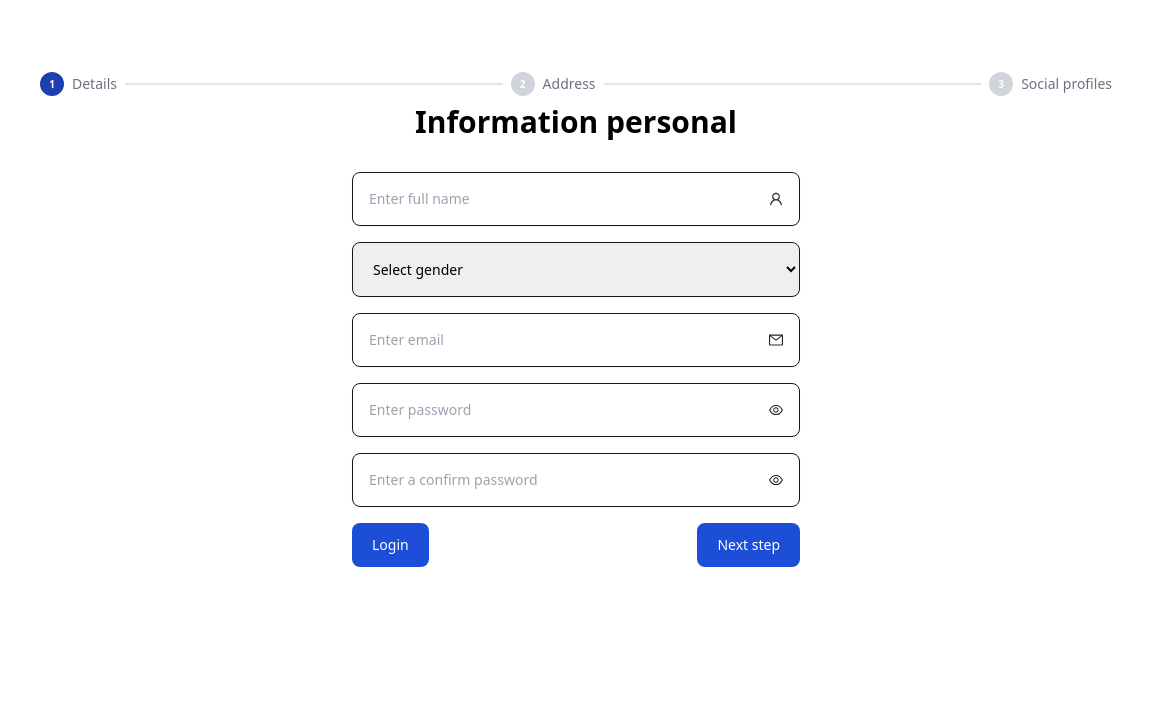
should show error message when email is not valid
Type "2" into the field with placeholder "Enter email" at (576,340), box [352,313,800,367]
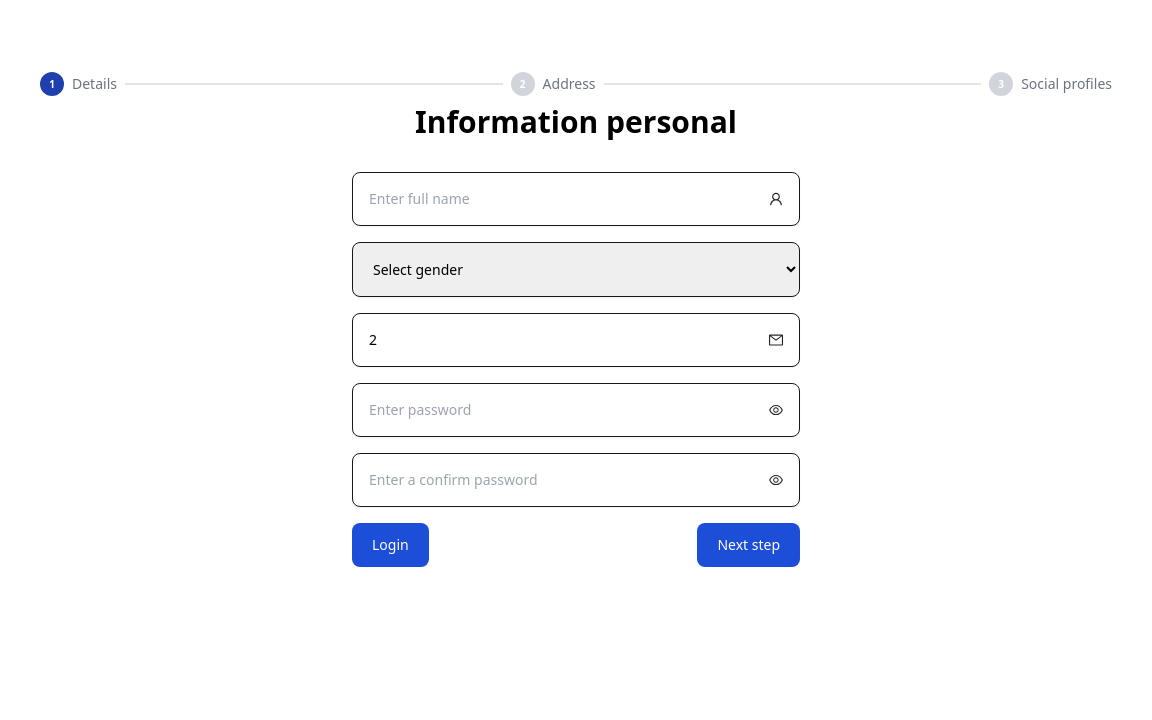
Click the button "Next step" at (749,545), box [697,523,800,567]
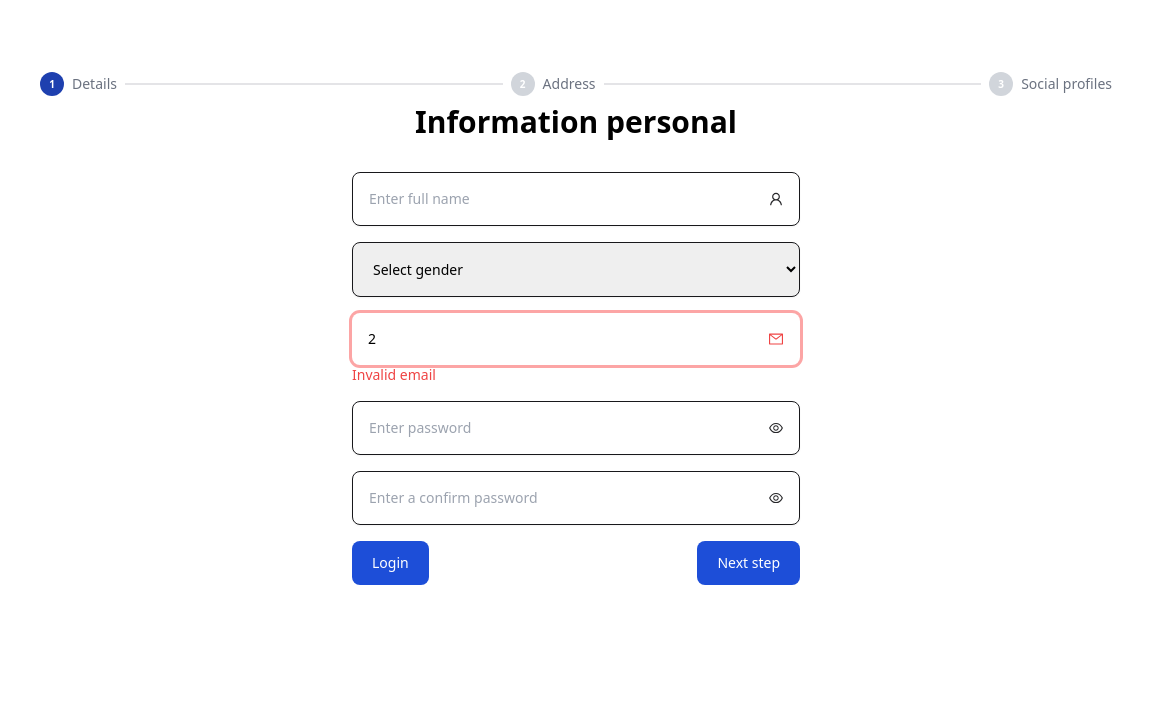
Expected: the text "Invalid email" is shown, [352,365,436,384]
